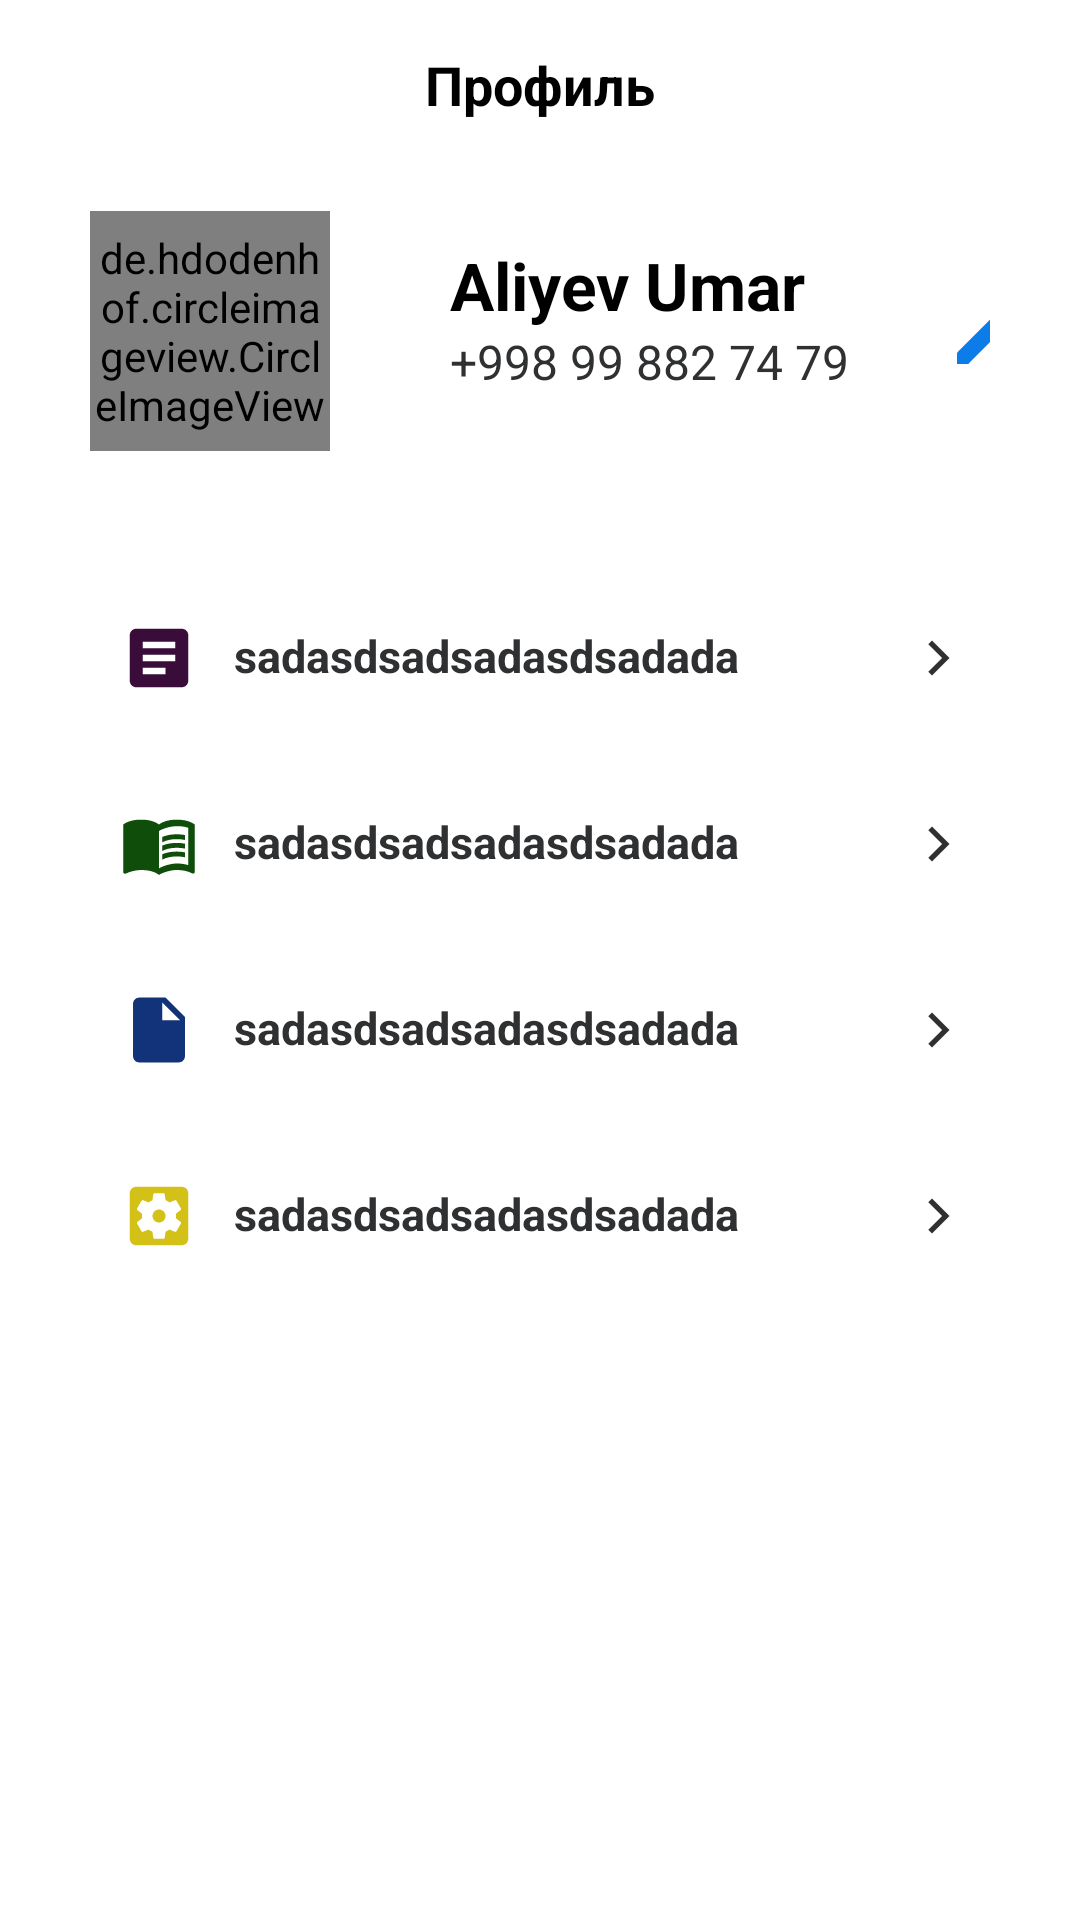

Icon bounding boxes for this 1080px x 1920px phone screenshot, format box=[x1, y1, x2, y2]:
anketa: box=[129, 628, 189, 688]
arrow: box=[928, 640, 950, 676], box=[928, 826, 950, 862], box=[928, 1012, 950, 1048], box=[928, 1198, 950, 1234]
book: box=[123, 819, 195, 875]
insert drive file: box=[133, 997, 185, 1063]
settings applications: box=[129, 1186, 189, 1246]
